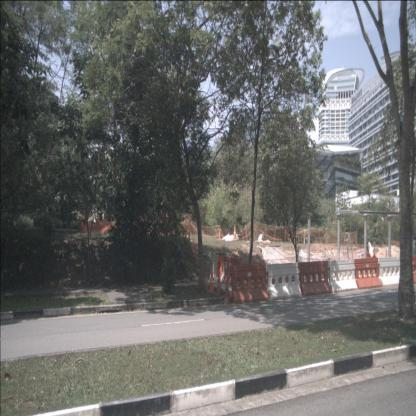movable_object-barrier: (229, 264, 269, 304), (266, 262, 302, 300), (298, 260, 331, 296), (327, 258, 358, 293), (353, 257, 382, 290), (378, 256, 403, 287), (222, 256, 242, 286), (209, 254, 225, 284), (412, 256, 416, 284)
movable_object-trafficcone: (215, 268, 222, 295), (208, 268, 215, 293), (203, 267, 209, 292)
